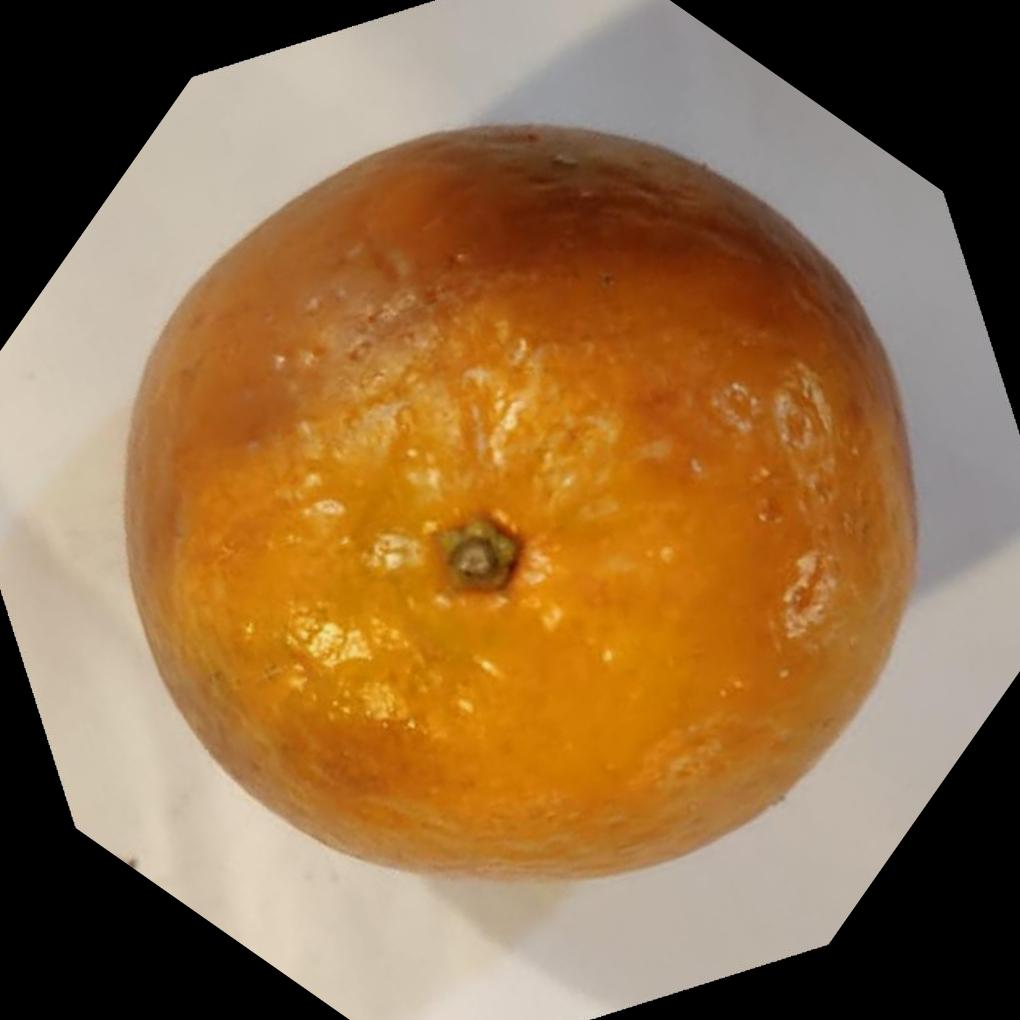FreshOrange: (121, 117, 924, 882)
